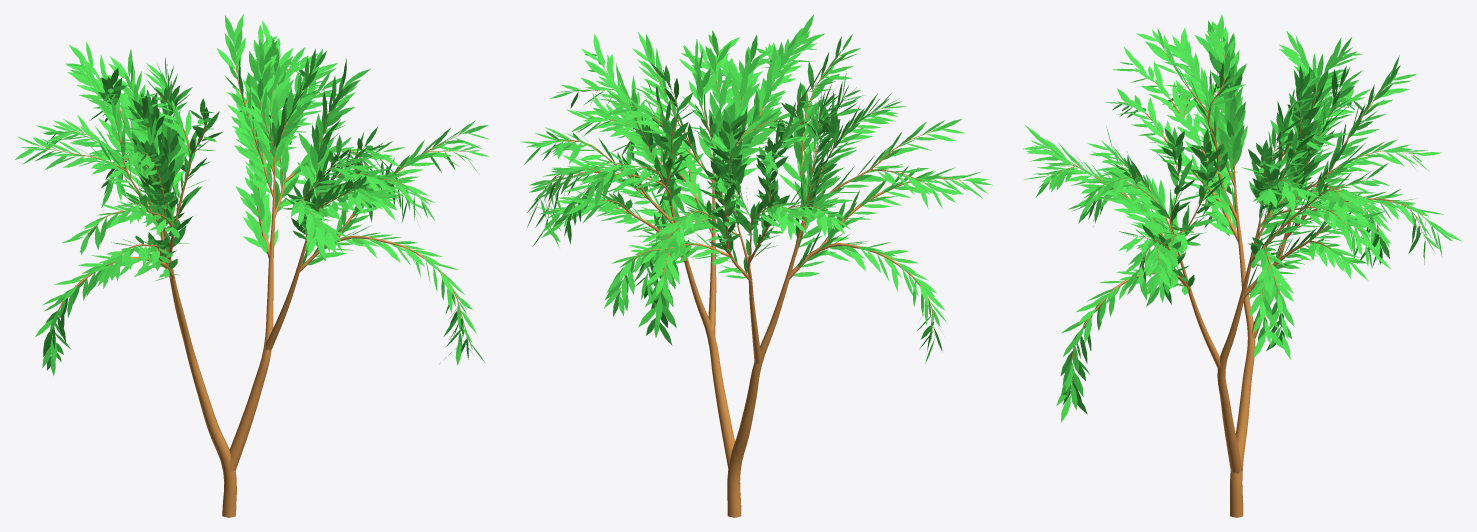
Rendered from tree1.fbx.
The picture shows the model from 3 angles, left to right: view 1: azimuth 30°, elevation 25°; view 2: azimuth 150°, elevation 25°; view 3: azimuth 270°, elevation 25°; orthographic projection. The views are drawn at different scales.
Visible parts, largest first — view 1: leaves, tree; view 2: leaves, tree; view 3: leaves, tree.
Part boxes in pixels (x1,y1,x2,y2): leaves: (15,14,489,375); tree: (38,43,468,517); leaves: (520,14,992,363); tree: (537,52,966,517); leaves: (1023,14,1462,422); tree: (1045,39,1425,517).
Size of the model in its own units: 6.2 by 6.53 by 5.69.
